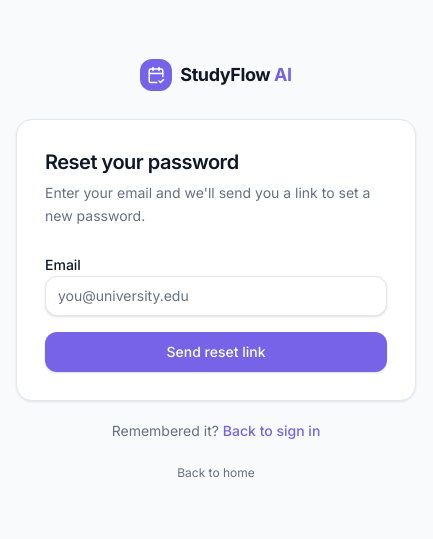
Test case: password recovery › scenario 10c: reports failures honestly without pretending an email was sent
The width and height of the screenshot is (433, 539).
Type "alex@university.edu" into the field labelled "Email" at (216,296), box [45,276,387,316]
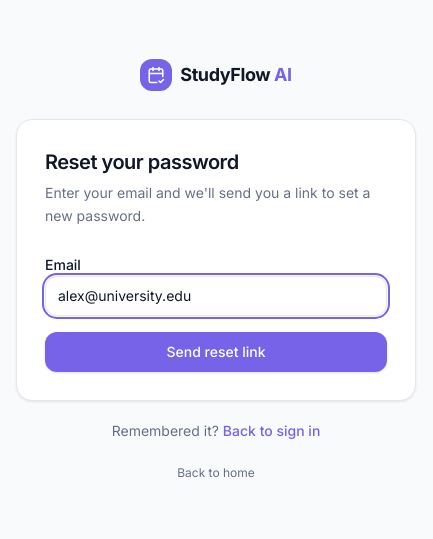
Click the button "Send reset link" at (216,352), box [45,332,387,372]
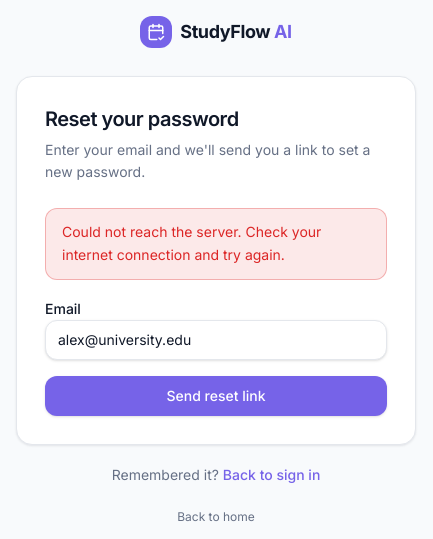
Check: the text "Could not reach the server" is shown, box [62,223,321,263]
